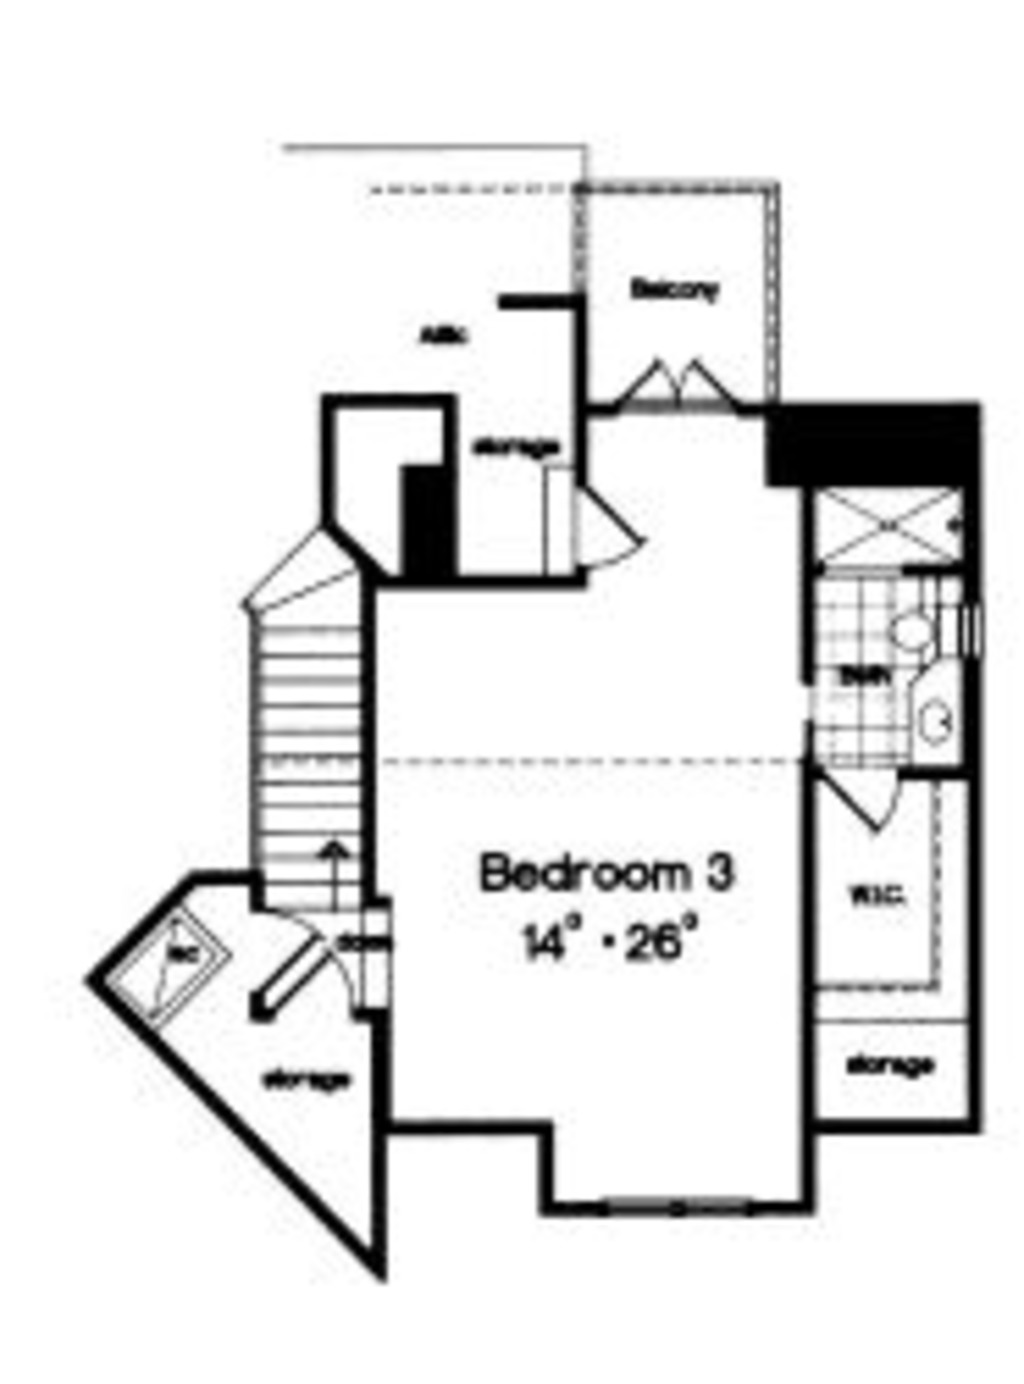door: (610, 338, 755, 415), (570, 476, 653, 574), (819, 754, 904, 842)
large_sink: (887, 593, 991, 659)
small_sink: (895, 677, 966, 770)
stairs: (221, 508, 393, 925)
window: (593, 1185, 759, 1217)
